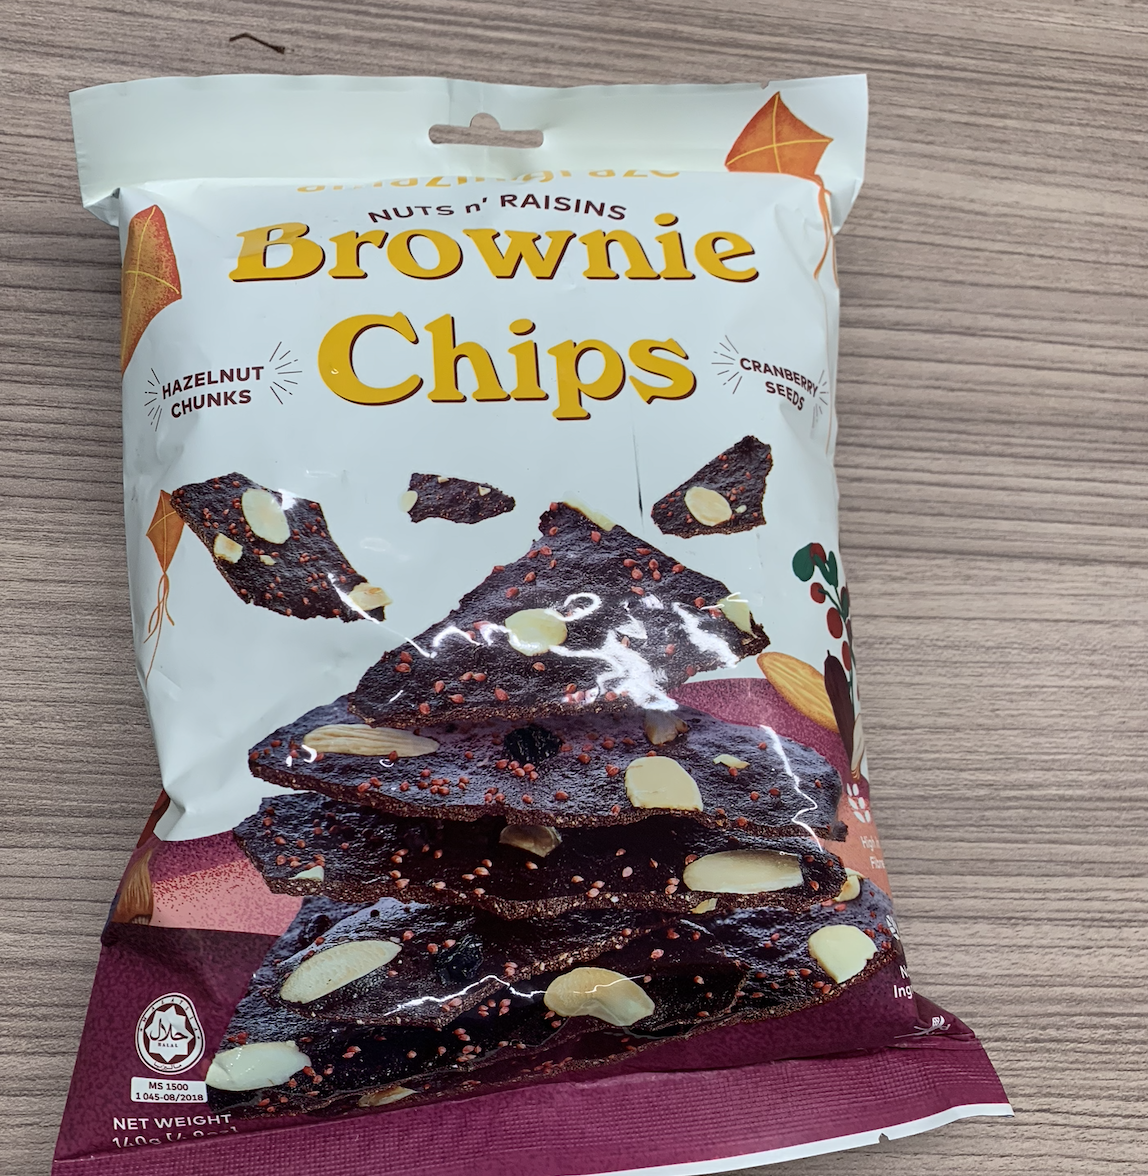crackers_100g-199g: (126, 168, 843, 1140)
